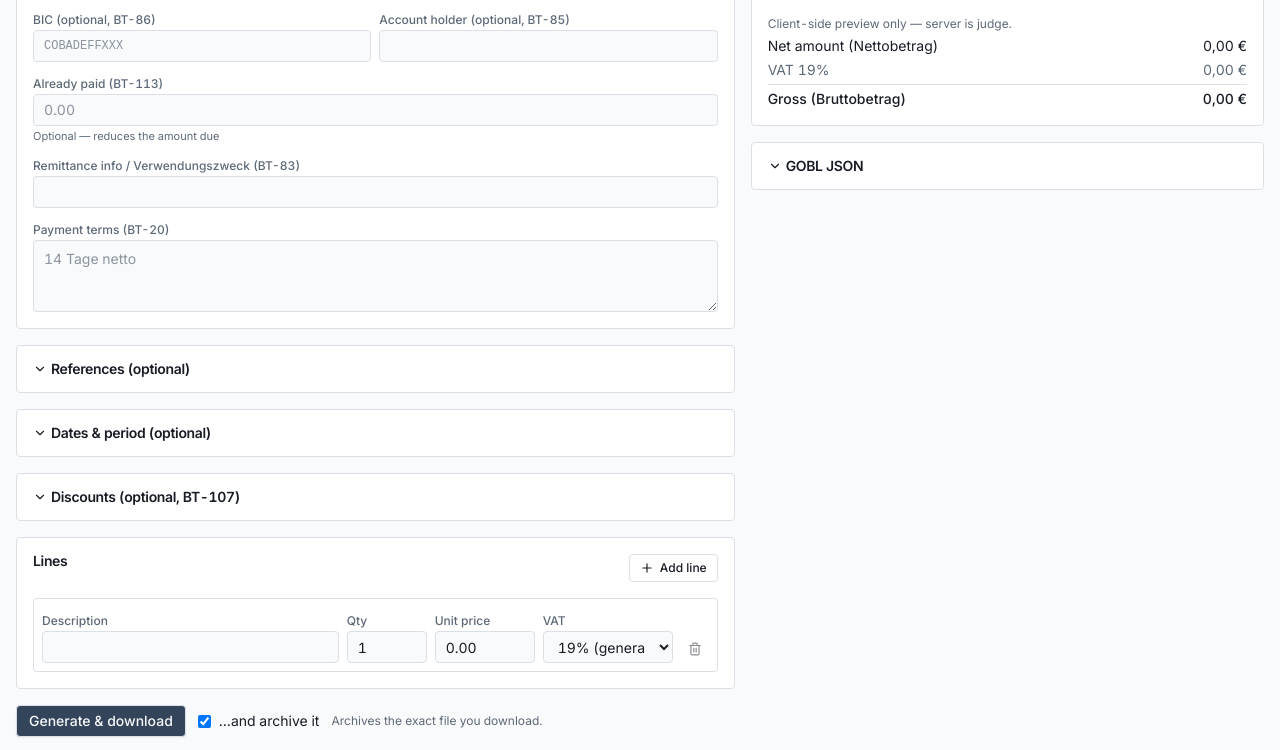
NewInvoicePage › optional refs/period/discounts sections collapse; expand reveals fields (EN)
(page scrolled)
Expected: the field labelled "Project (BT-11)" is not shown
Expected: the field labelled "Delivery / supply date" is not shown
Click the button with test id "section-refs": [111, 369] box top-left (33, 362), bottom-right (190, 376)
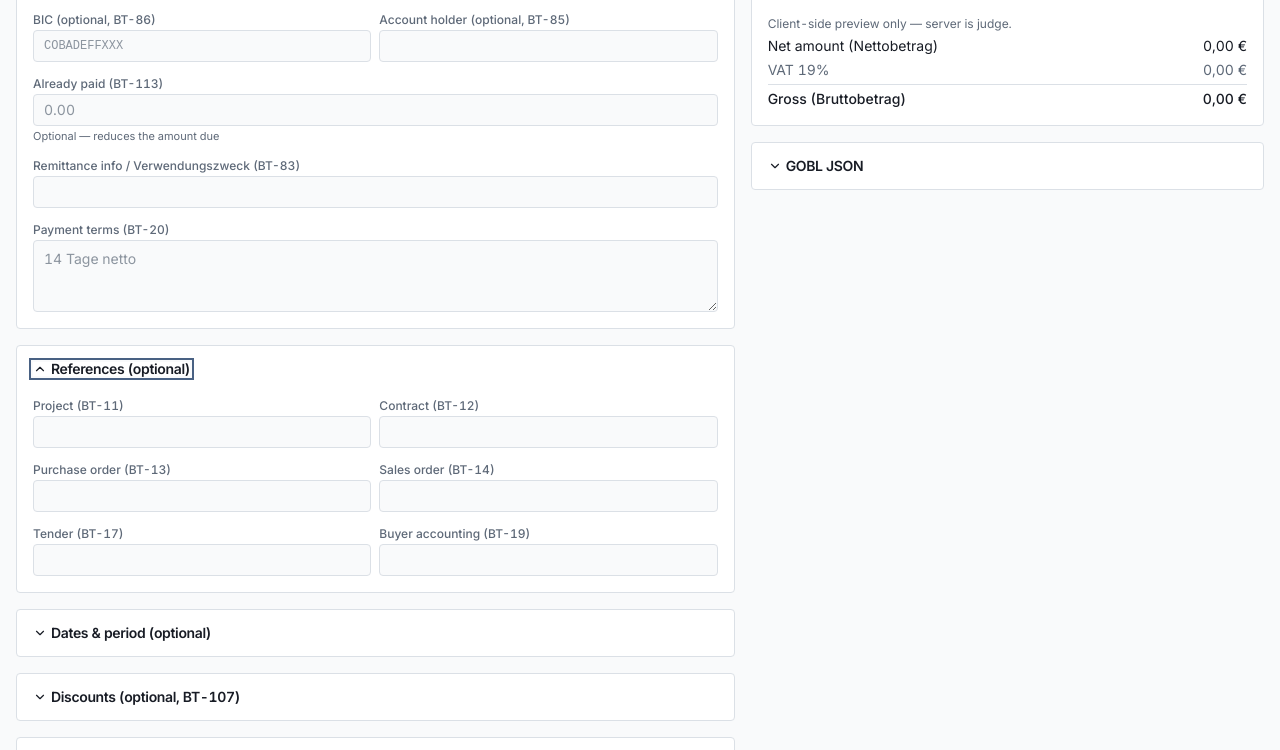
Expected: the field labelled "Project (BT-11)" is shown, top-left (33, 416), bottom-right (371, 448)
Expected: the field labelled "Purchase order (BT-13)" is shown, top-left (33, 480), bottom-right (371, 512)
Click the button with test id "section-period": [122, 633] box top-left (33, 626), bottom-right (211, 640)
(page scrolled)
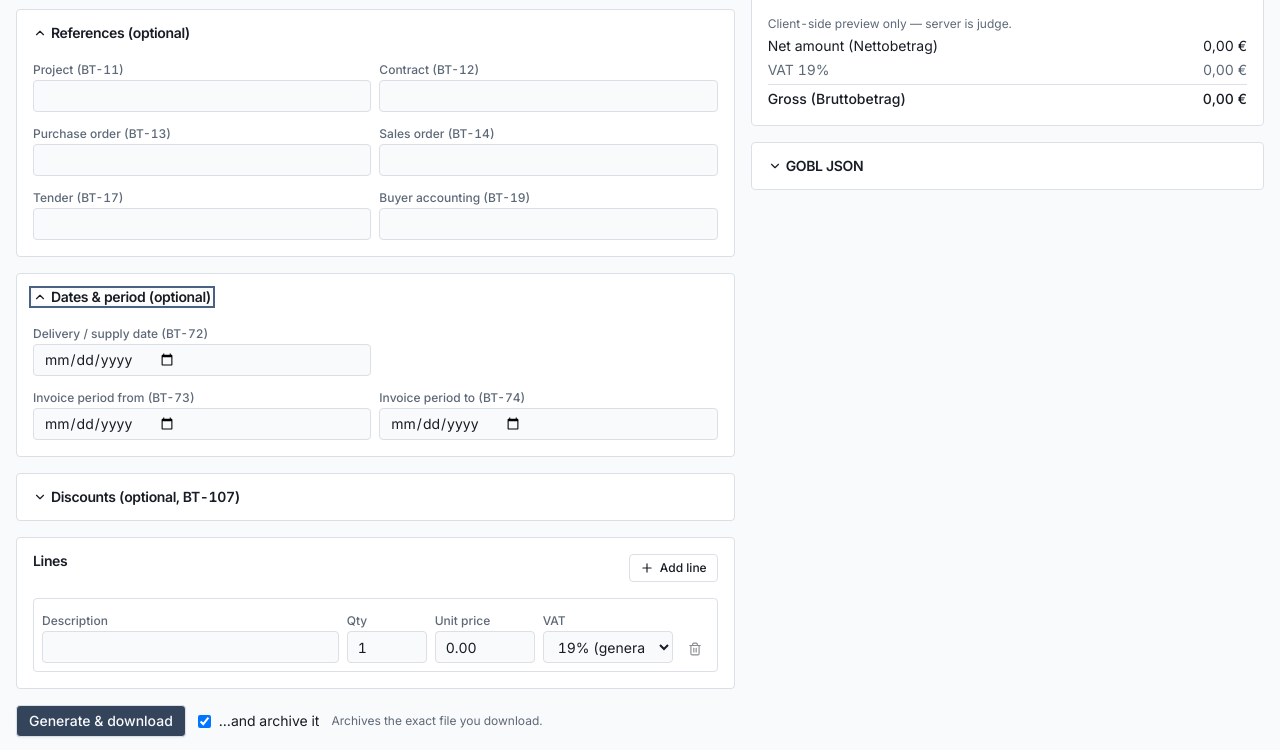
Expected: the date field labelled "Delivery / supply date (BT-72)" is shown, top-left (33, 344), bottom-right (371, 376)
Click the button with test id "section-discounts": [136, 497] box top-left (33, 490), bottom-right (240, 504)
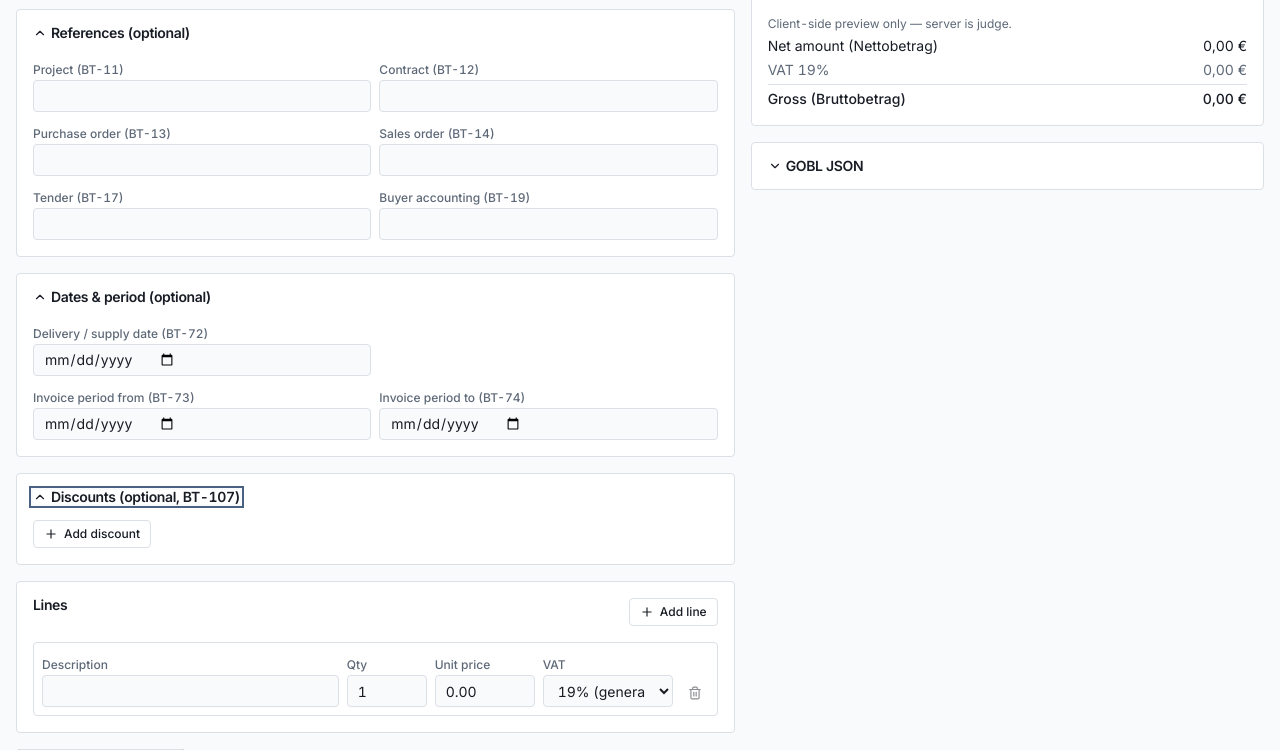
Expected: the button "Add discount" is shown, top-left (33, 520), bottom-right (151, 548)
